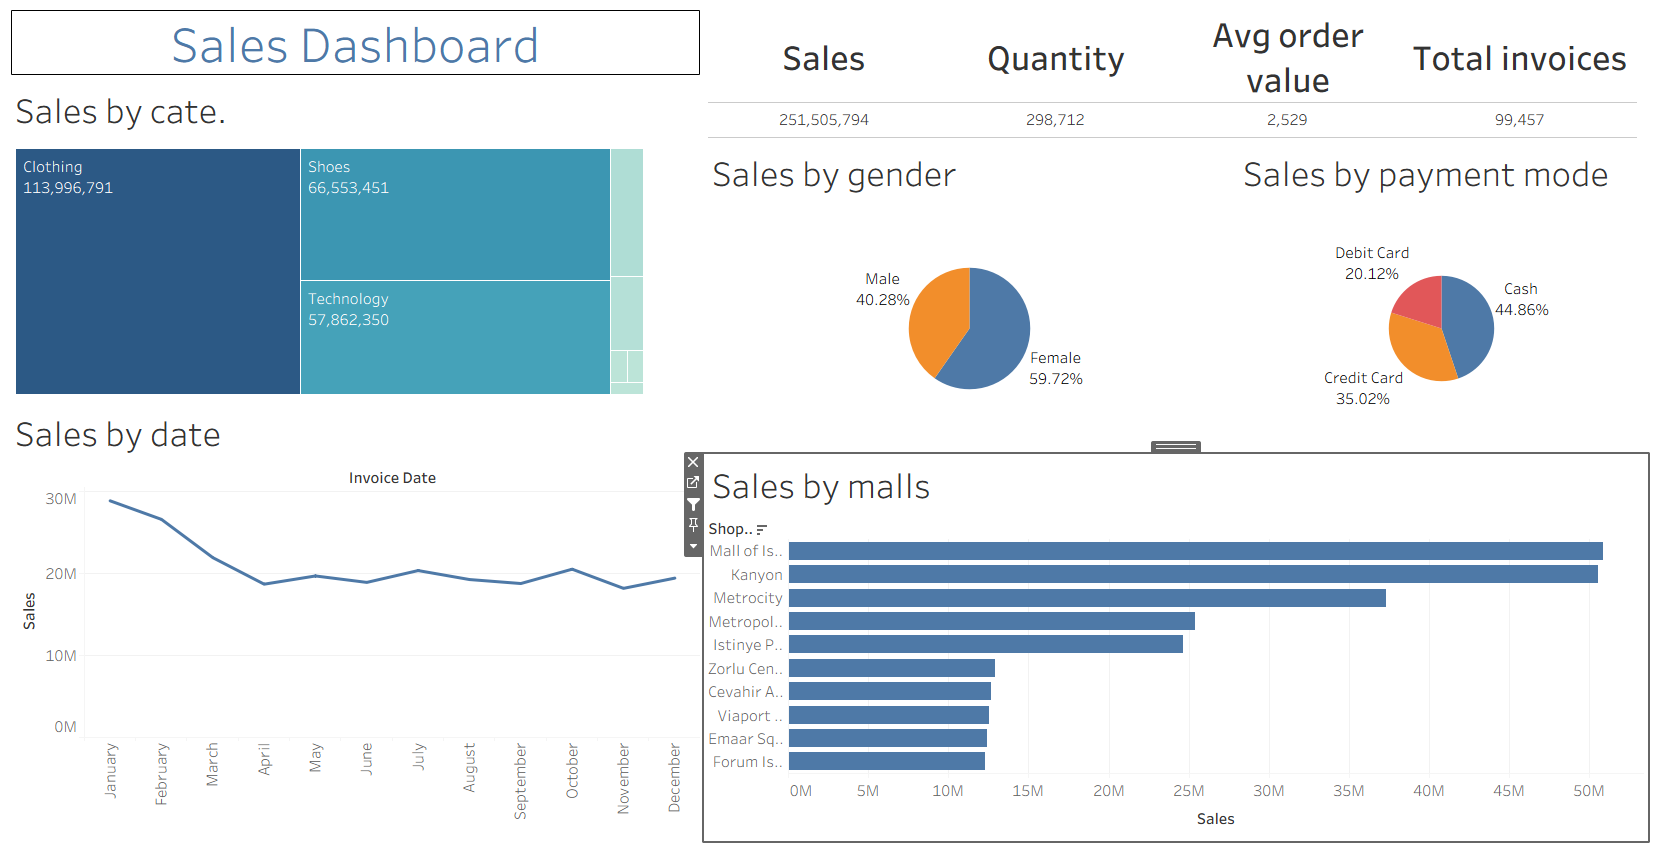

What the dashboard file says about the page in this screenshot:
{"tool":"tableau","page":{"name":"Dashboard 2","canvas":[1000,1000],"units":"permille","ordinal":0},"visuals":[{"type":"text","box":[5,9.4,404.8,85.8]},{"type":"worksheet","title":"KPI","mark":"Automatic","box":[409.8,9.4,585.2,159.8]},{"type":"worksheet","title":"Sales by cate.","mark":"Automatic","box":[5,95.2,404.8,379.6]},{"type":"worksheet","title":"Sales by gender","mark":"Pie","box":[409.8,169.2,329.2,366.6]},{"type":"worksheet","title":"Sales by payment mode","mark":"Pie","box":[739,169.2,256,366.6]},{"type":"worksheet","title":"Sales by date","mark":"Automatic","rows":["Calculation_0222410746126336"],"cols":["invoice_date"],"box":[5,474.7,404.8,515.9]},{"type":"worksheet","title":"Sales by malls","mark":"Automatic","rows":["shopping_mall"],"cols":["Calculation_0222410746126336"],"box":[409.8,535.8,585.2,454.7]}]}

Visuals, with their boxes on the dashboard's canvas, which has no fixed pixel size, in thousandths of its width and height (x1, y1, x2, y2). These are canvas units, not pixel positions in the 1656x848 screenshot, which may show the page scaled, cropped or inside an application window:
text: pyautogui.locateOnScreen(5, 9, 410, 95)
"KPI" worksheet: pyautogui.locateOnScreen(410, 9, 995, 169)
"Sales by cate." worksheet: pyautogui.locateOnScreen(5, 95, 410, 475)
"Sales by gender" worksheet (Pie marks): pyautogui.locateOnScreen(410, 169, 739, 536)
"Sales by payment mode" worksheet (Pie marks): pyautogui.locateOnScreen(739, 169, 995, 536)
"Sales by date" worksheet: pyautogui.locateOnScreen(5, 475, 410, 991)
"Sales by malls" worksheet: pyautogui.locateOnScreen(410, 536, 995, 990)
